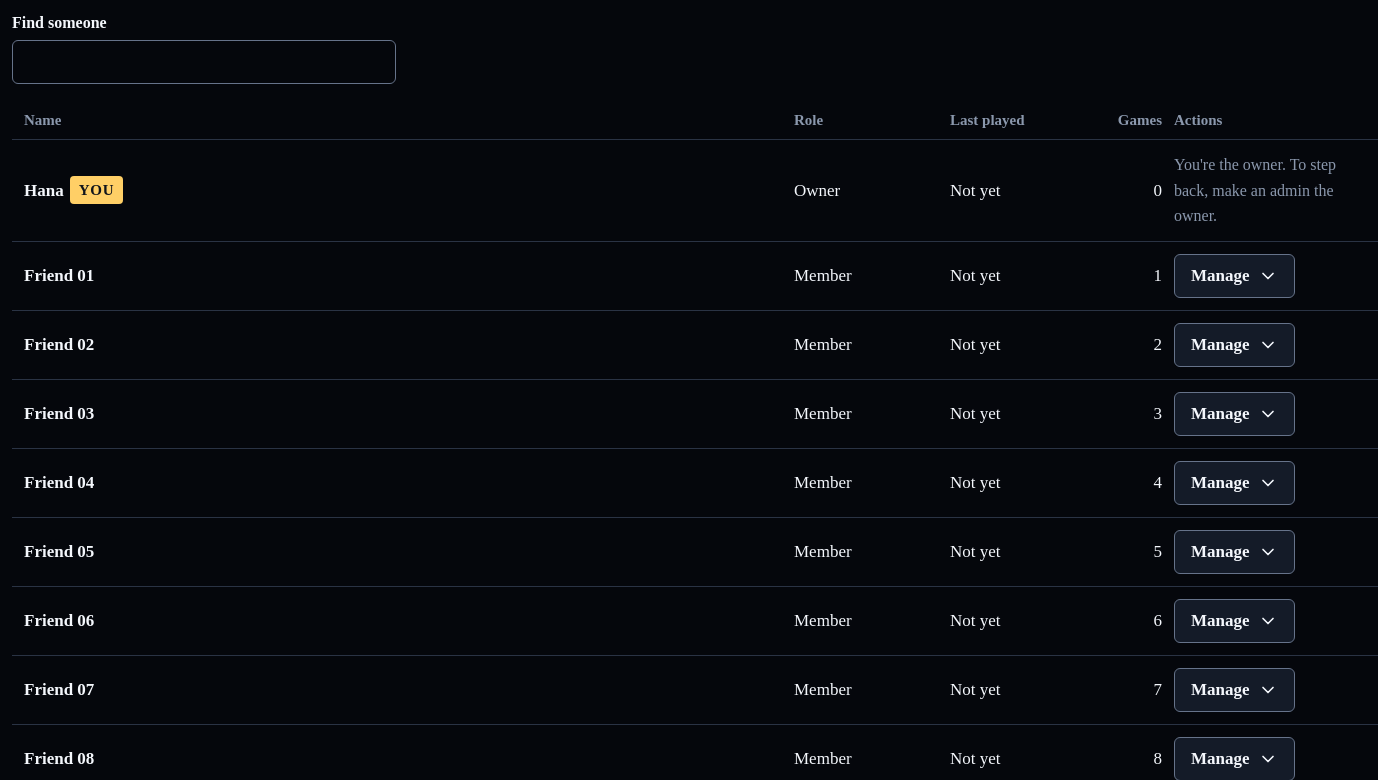
Test: M14.52: finding someone at 375 › Find someone filters as you type, with no request, and says when nobody matches
This screenshot has width=1378, height=780.
Type "friend 3" into the search field labelled "Find someone" at (204, 62), box [12,40,396,84]
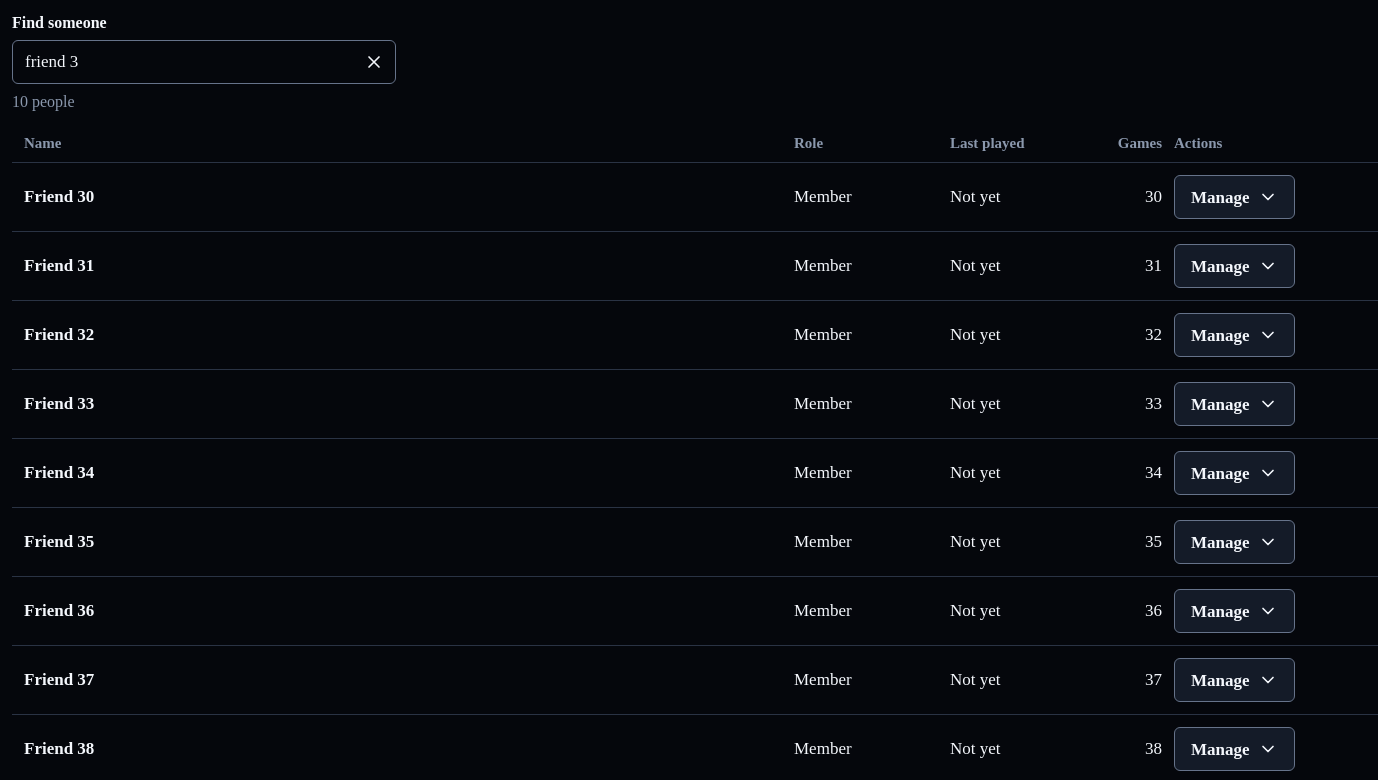
Check: the message reads "10 people", box [12,93,75,110]
Replace the text in the search field labelled "Find someone" with "zzz" at (204, 62), box [12,40,396,84]
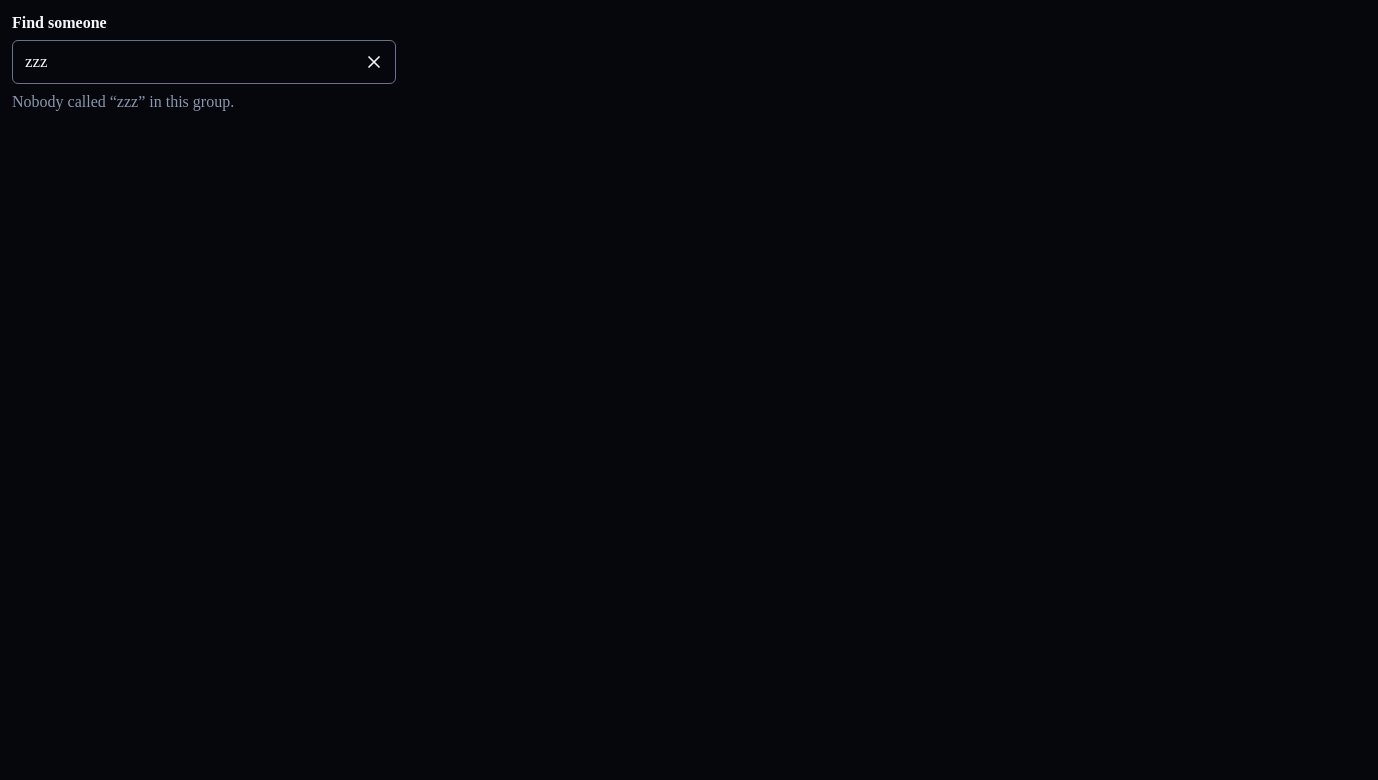
Check: the message reads "Nobody called “zzz” in this group.", box [12,93,234,110]
